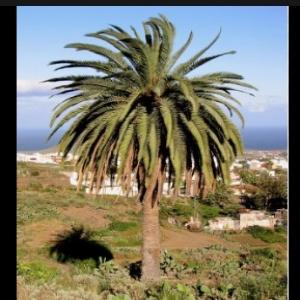palm tree: (39, 13, 258, 280)
